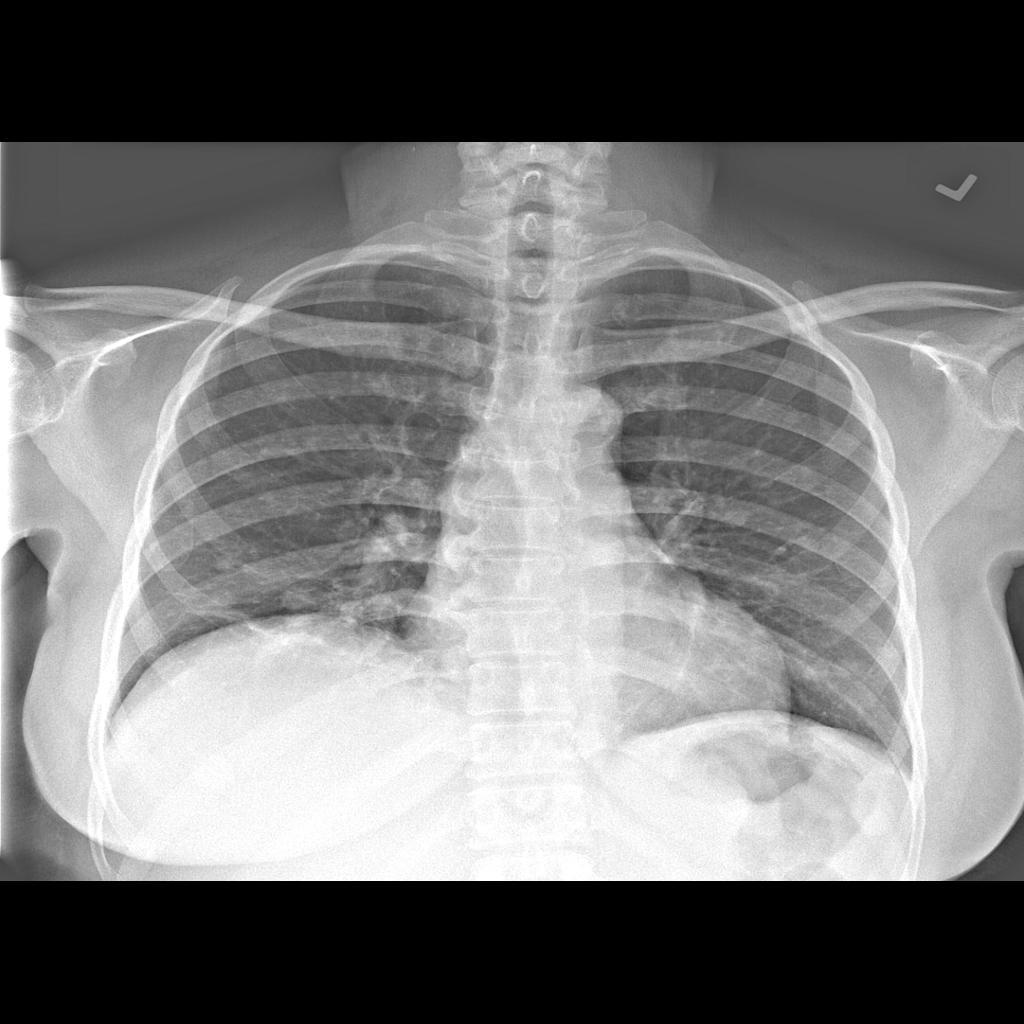Nodule: (277, 577, 320, 619)
